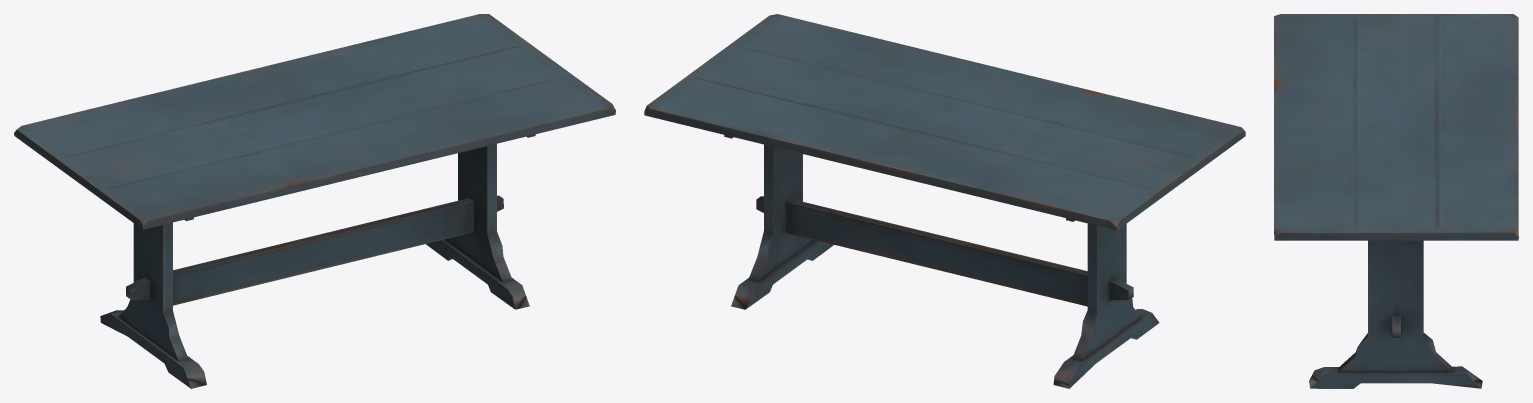
File: painted_wooden_table_lod1.glb
The picture shows the model from 3 angles, left to right: view 1: azimuth 30°, elevation 25°; view 2: azimuth 150°, elevation 25°; view 3: azimuth 270°, elevation 25°; orthographic projection. The views are drawn at different scales.
Visible parts, largest first — view 1: painted_wooden_table; view 2: painted_wooden_table; view 3: painted_wooden_table.
Part boxes in pixels (x1,y1,x2,y2): painted_wooden_table: (14,14,615,388); painted_wooden_table: (644,14,1245,388); painted_wooden_table: (1274,14,1518,388).
Size of the model in its own units: 2.4 by 0.9587 by 1.14.
Materials: 1 (1 with a texture image).
